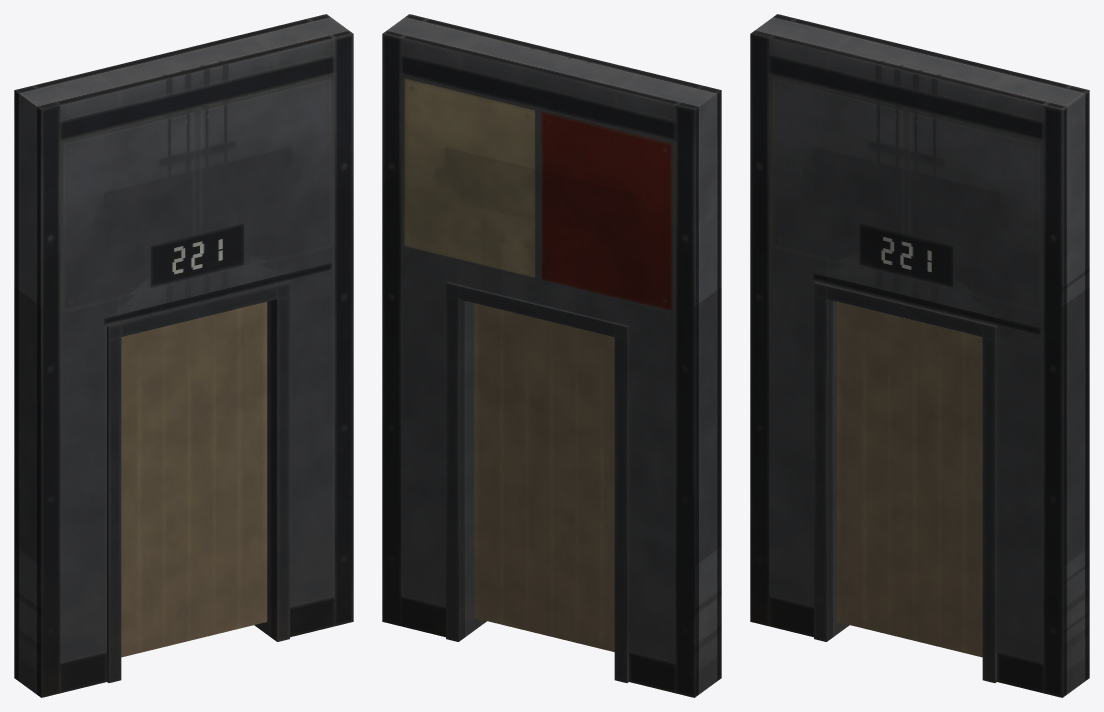
The model's file is cabin_door.glb.
The picture shows the model from 3 angles, left to right: view 1: azimuth 30°, elevation 25°; view 2: azimuth 150°, elevation 25°; view 3: azimuth 330°, elevation 25°; orthographic projection.
Parts seen in each view (by area): view 1: cabin_door; view 2: cabin_door; view 3: cabin_door.
Part boxes in pixels (x1,y1,x2,y2): cabin_door: (14, 14, 353, 697); cabin_door: (382, 14, 721, 697); cabin_door: (750, 14, 1089, 697).
Bounding box in the file's own units: 2 × 3.6 × 0.34.
Materials: 1 (1 with a texture image).
